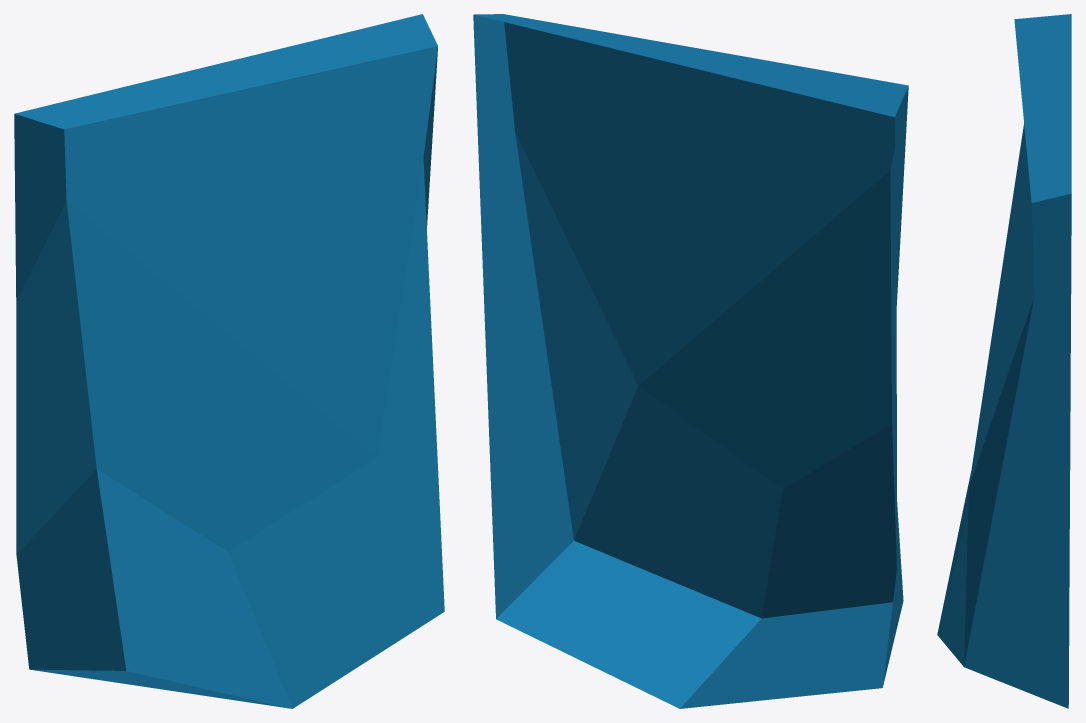
Rendered from Teja3.fbx.
The picture shows the model from 3 angles, left to right: view 1: azimuth 30°, elevation 25°; view 2: azimuth 150°, elevation 25°; view 3: azimuth 270°, elevation 25°; orthographic projection. The views are drawn at different scales.
Parts seen in each view (by area): view 1: Teja3_LOD0; view 2: Teja3_LOD0; view 3: Teja3_LOD0.
Boxes of the visible parts, x1=… form: Teja3_LOD0: x1=14, y1=14, x2=444, y2=708; Teja3_LOD0: x1=473, y1=14, x2=908, y2=708; Teja3_LOD0: x1=937, y1=14, x2=1071, y2=708.
Size of what is drawn, in the model's own units: 18.73 by 87.05 by 59.16.
